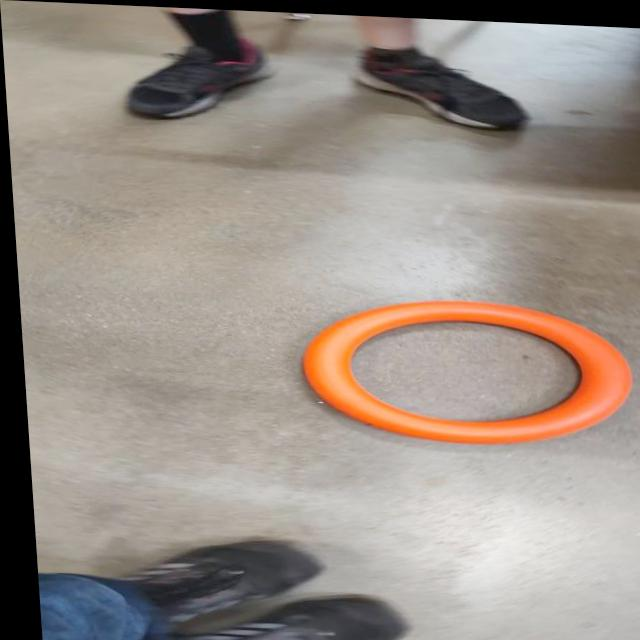note: (294, 289, 632, 447)
